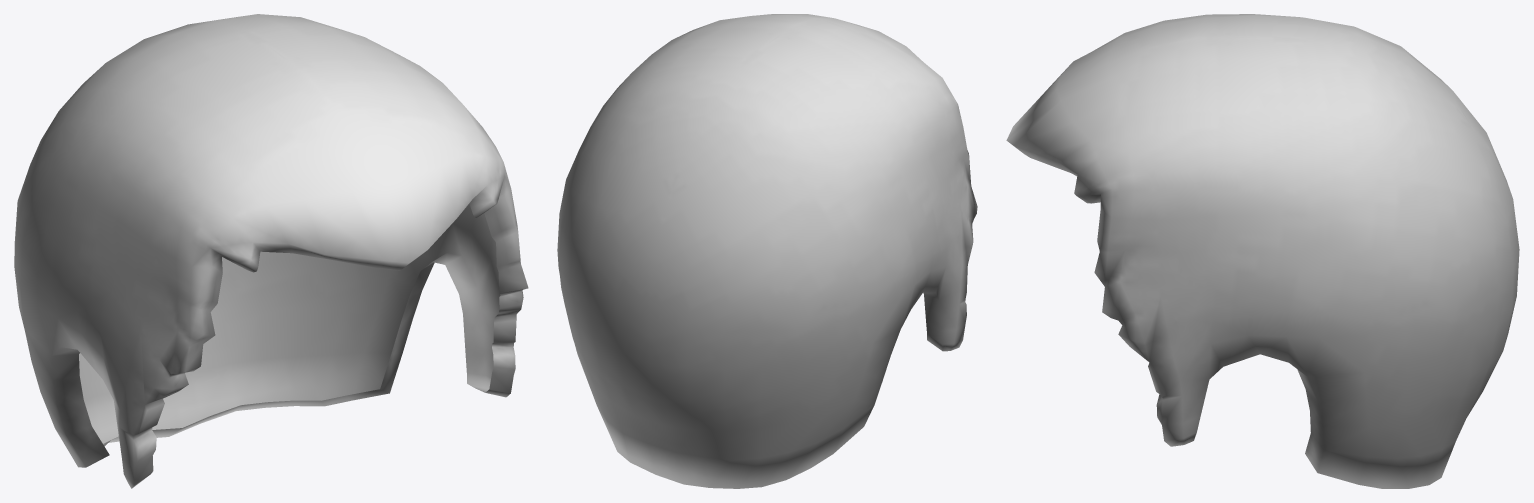
File: hair-buzz.glb
3 renders of one model, left to right at view 1: azimuth 30°, elevation 25°; view 2: azimuth 150°, elevation 25°; view 3: azimuth 270°, elevation 25°, orthographic. The views are drawn at different scales.
Visible parts, largest first — view 1: hair-buzz; view 2: hair-buzz; view 3: hair-buzz.
Boxes of the visible parts, bbox=[...] form: hair-buzz: bbox=[14, 14, 528, 488]; hair-buzz: bbox=[557, 14, 977, 488]; hair-buzz: bbox=[1006, 14, 1519, 488].
Bounding box in the file's own units: 0.1546 × 0.1714 × 0.1897.
Materials: 1 (1 with a texture image).
